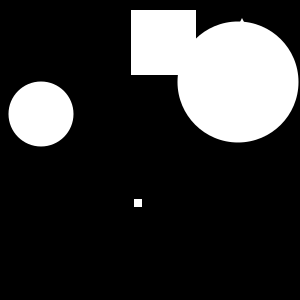circle: (131, 10, 196, 75), (134, 199, 142, 207)
rectangle: (178, 21, 298, 142), (8, 82, 74, 146)
triangle: (234, 18, 250, 34)
